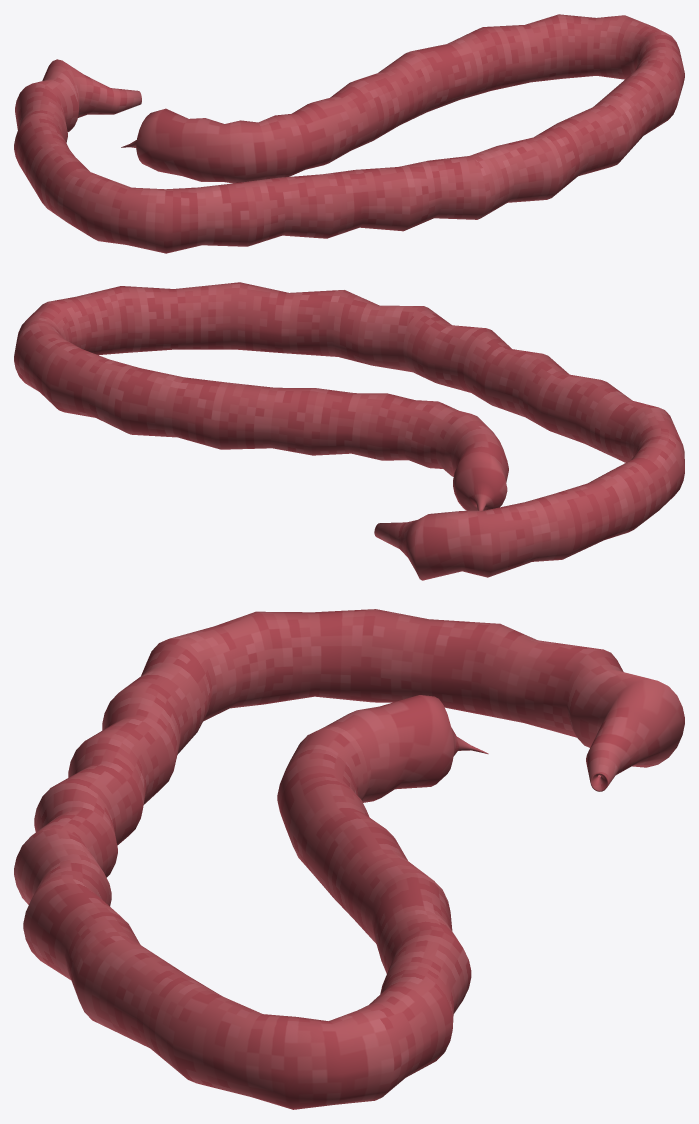
File: Intestino.fbx
3 renders of one model, top to bottom at view 1: azimuth 30°, elevation 25°; view 2: azimuth 150°, elevation 25°; view 3: azimuth 270°, elevation 25°, orthographic. The views are drawn at different scales.
Visible parts, largest first — view 1: Intestino; view 2: Intestino; view 3: Intestino.
Boxes of the visible parts, x1=… form: Intestino: x1=14, y1=14, x2=684, y2=253; Intestino: x1=14, y1=282, x2=684, y2=580; Intestino: x1=14, y1=609, x2=684, y2=1109.
Size of the model in its own units: 284 by 26.79 by 184.
1 material, 1 textured.
